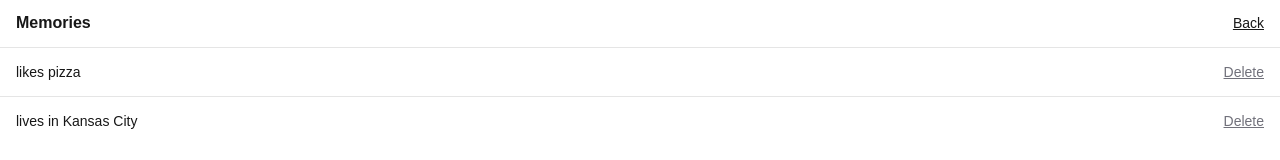
Test: Memories › shows one row per fact and Save only after an edit
Expected: the 2nd text box showing "lives in Kansas City" is shown, [16,105,1212,137]
Expected: the button "Save" is not shown
Step 1. Replace the text in the 1st text box showing "likes pizza" with "likes tacos" → (614, 72), box [16,56,1212,88]
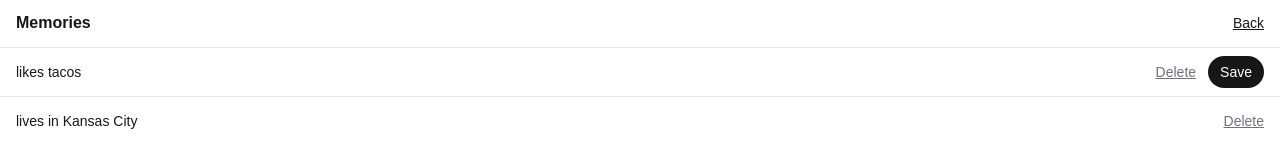
Now the button "Save" is shown, box [1208,56,1264,88]
